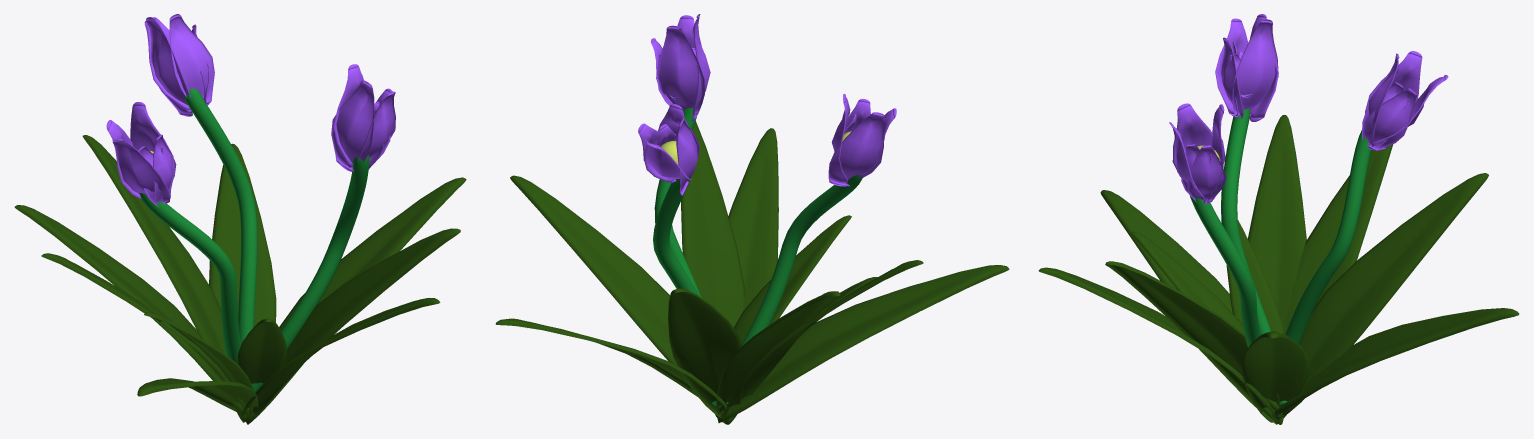
The model's file is Grass0.2.fbx.
3 renders of one model, left to right at view 1: azimuth 30°, elevation 25°; view 2: azimuth 150°, elevation 25°; view 3: azimuth 270°, elevation 25°, orthographic.
Visible parts, largest first — view 1: Leaf.009, Leaf.004, Branch, Leaf.005, Leaf.003, Leaf, Branch.001, Branch.002, petal.008, petal.004, Leaf.006, petal.001 (+11 smaller); view 2: Leaf.002, Leaf, Leaf.009, Leaf.001, Leaf.004, Leaf.003, Branch.002, petal.007, petal.015, Leaf.006, Branch, Leaf.005 (+8 smaller); view 3: Leaf.004, Leaf.008, Leaf.009, Leaf.005, Leaf.003, Leaf, Branch, Leaf.002, Branch.002, petal.014, Branch.001, Leaf.001 (+14 smaller).
Part boxes in pixels (x1,y1,x2,y2): Leaf.009: (253,228,460,414); Leaf.004: (82,135,243,421); Branch: (183,88,257,344); Leaf.005: (209,143,276,421); Leaf.003: (14,205,245,416); Leaf: (246,177,466,424); Branch.001: (251,155,369,392); Branch.002: (139,193,240,363); petal.008: (331,80,374,171); petal.004: (169,14,214,105); Leaf.006: (237,318,286,383); petal.001: (146,17,192,116); Leaf.002: (717,265,1009,422); Leaf: (510,175,723,414); Leaf.009: (681,121,745,418); Leaf.001: (724,128,778,424); Leaf.004: (668,288,743,420); Leaf.003: (716,291,840,422); Branch.002: (712,174,862,407); petal.007: (656,25,704,114); petal.015: (828,112,885,186); Leaf.006: (734,215,851,343); Branch: (653,176,699,296); Leaf.005: (495,318,731,417); Leaf.004: (1283,173,1488,415); Leaf.008: (1248,115,1306,333); Leaf.009: (1105,261,1280,424); Leaf.005: (1272,308,1519,417); Leaf.003: (1282,144,1393,417); Leaf: (1241,331,1310,422); Branch: (1285,130,1371,343); Leaf.002: (1100,190,1283,424); Branch.002: (1221,108,1287,404); petal.014: (1232,19,1278,116); Branch.001: (1190,196,1282,405); Leaf.001: (1038,267,1275,418).
Bounding box in the file's own units: 1342 × 1124 × 1344.
